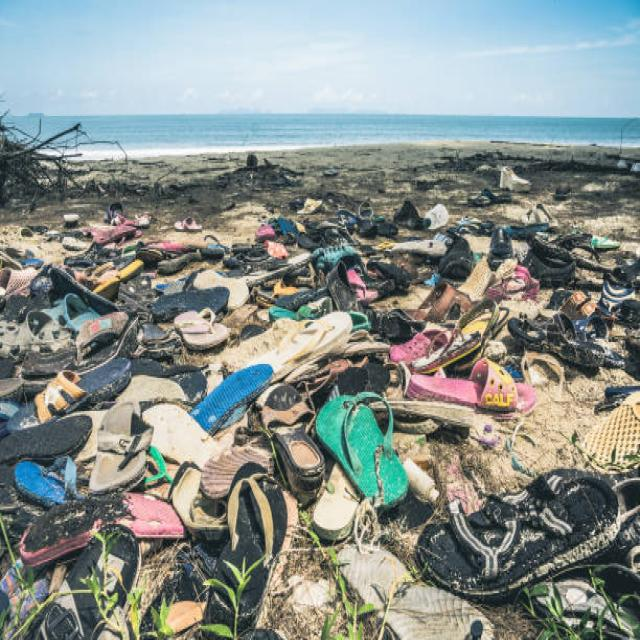trash: (24, 210, 588, 588)
